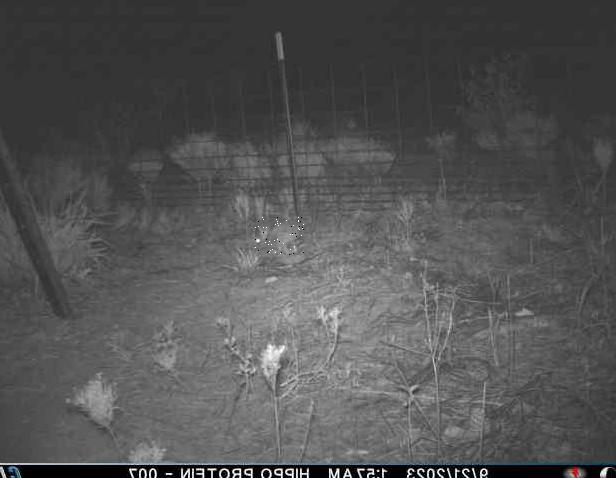Rabbit: (253, 217, 303, 255)
